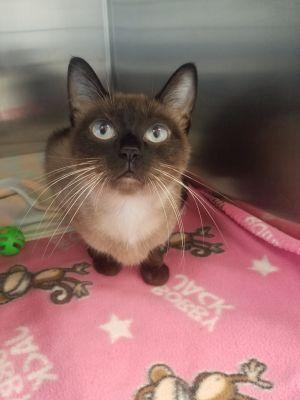siamese: (59, 48, 208, 208)
